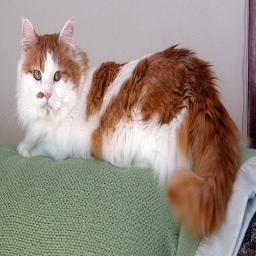catnose: (43, 91, 53, 102)
